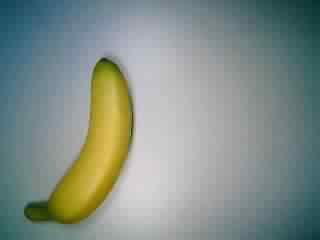banana: (24, 49, 133, 225)
